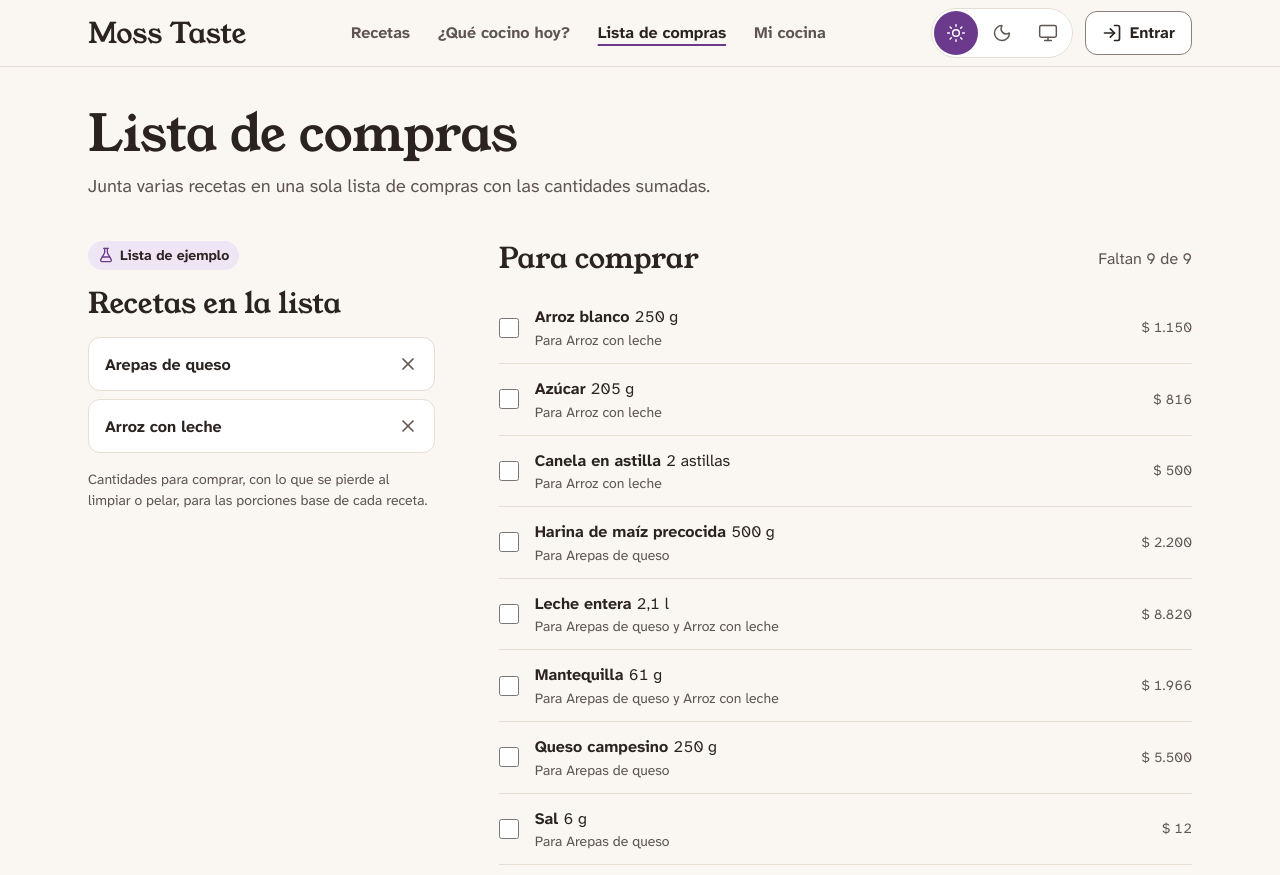
Test case: lista de compras › suma las recetas, marca comprados y se vacía al quitarlas
Expected: the heading "Lista de compras" is shown, x1=88 y1=98 x2=518 y2=169
Expected: the text "Para Arepas de queso y Arroz con leche" is shown 2 times, x1=535 y1=617 x2=779 y2=635; x1=535 y1=689 x2=779 y2=707
Click the checkbox labelled "Leche entera": [509, 614] box x1=499 y1=604 x2=519 y2=624
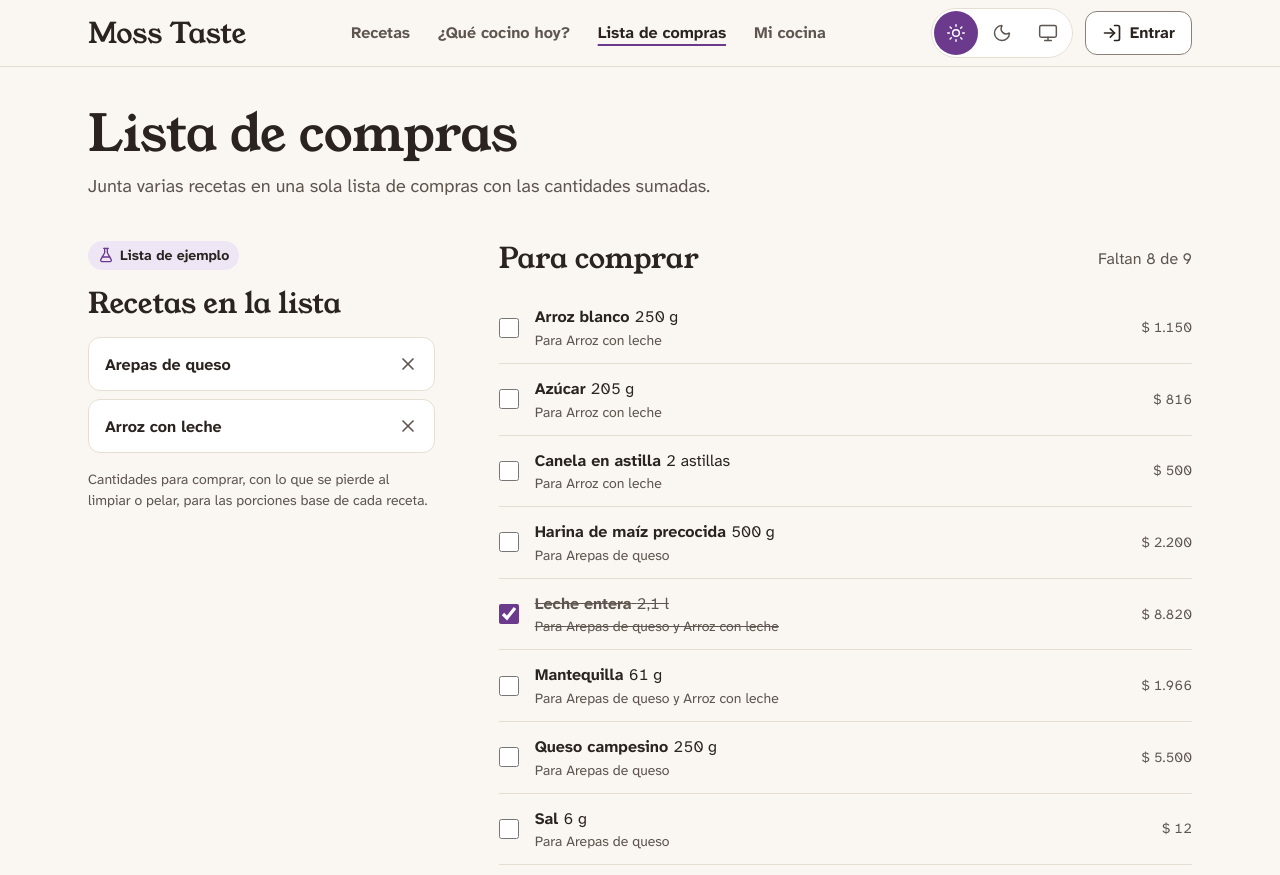
Now the checkbox labelled "Leche entera" is checked, box x1=499 y1=604 x2=519 y2=624
Click the button named "Quitar Arepas de queso de la lista": [408, 364] box x1=386 y1=342 x2=430 y2=386
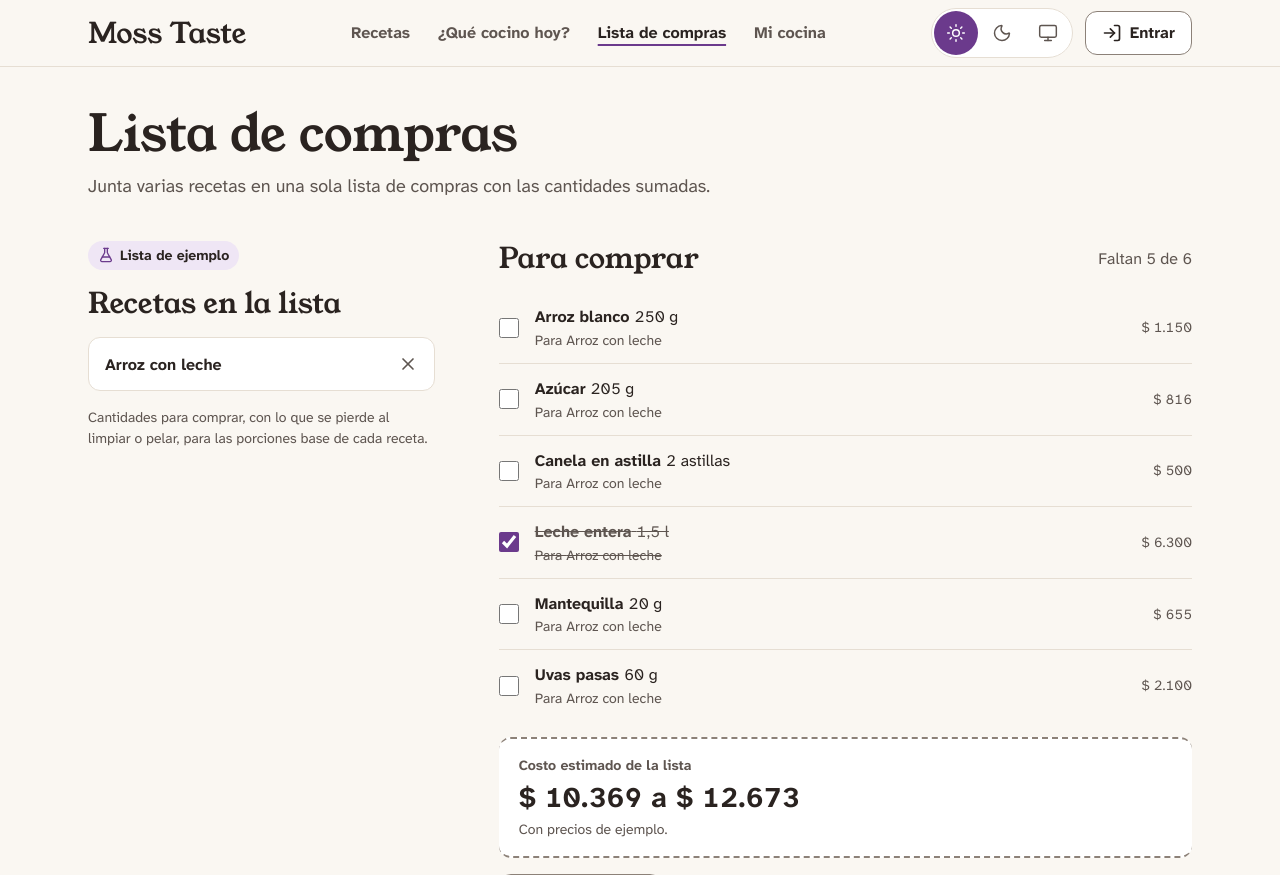
Click the button named "Quitar Arroz con leche de la lista": [408, 364] box x1=386 y1=342 x2=430 y2=386
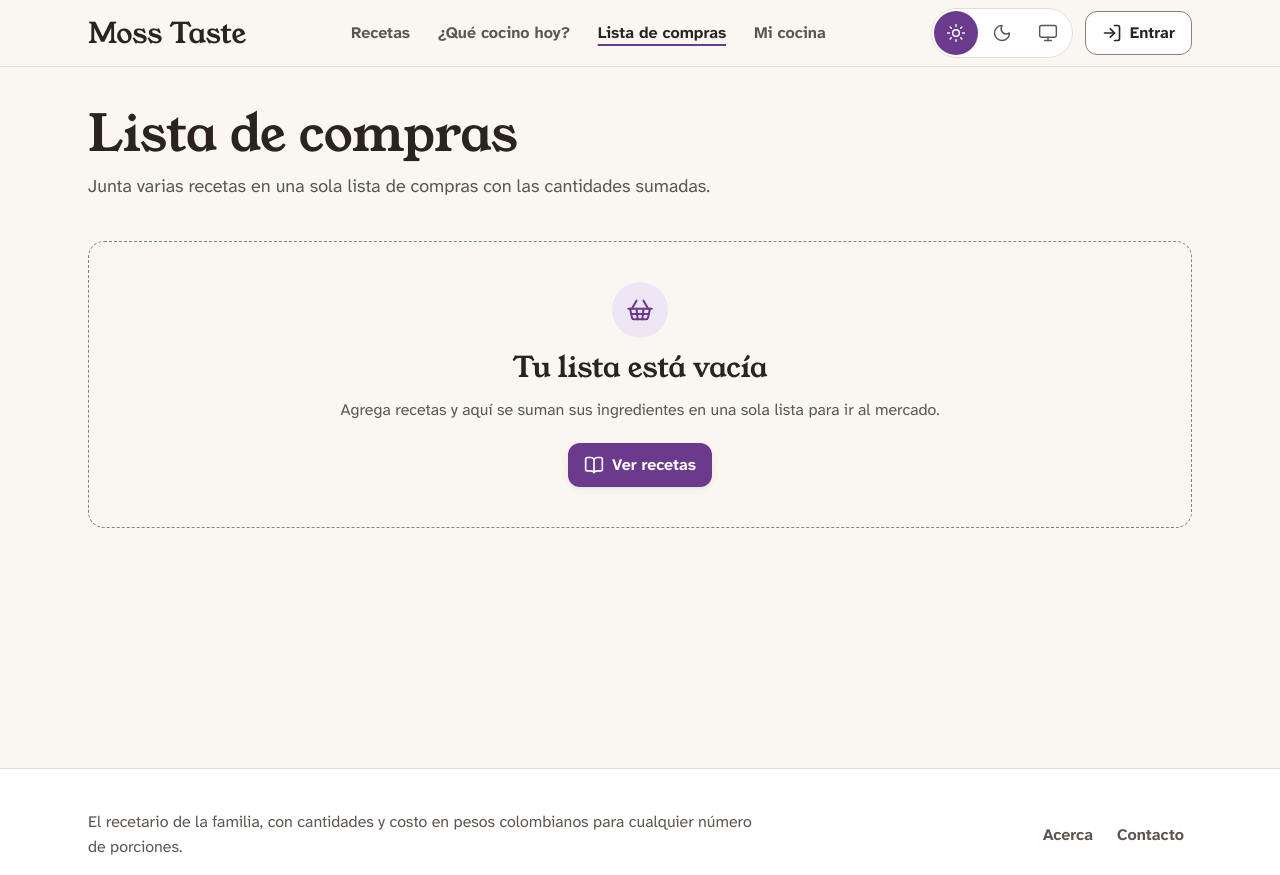
Now the heading "Tu lista está vacía" is shown, box x1=512 y1=350 x2=768 y2=385
